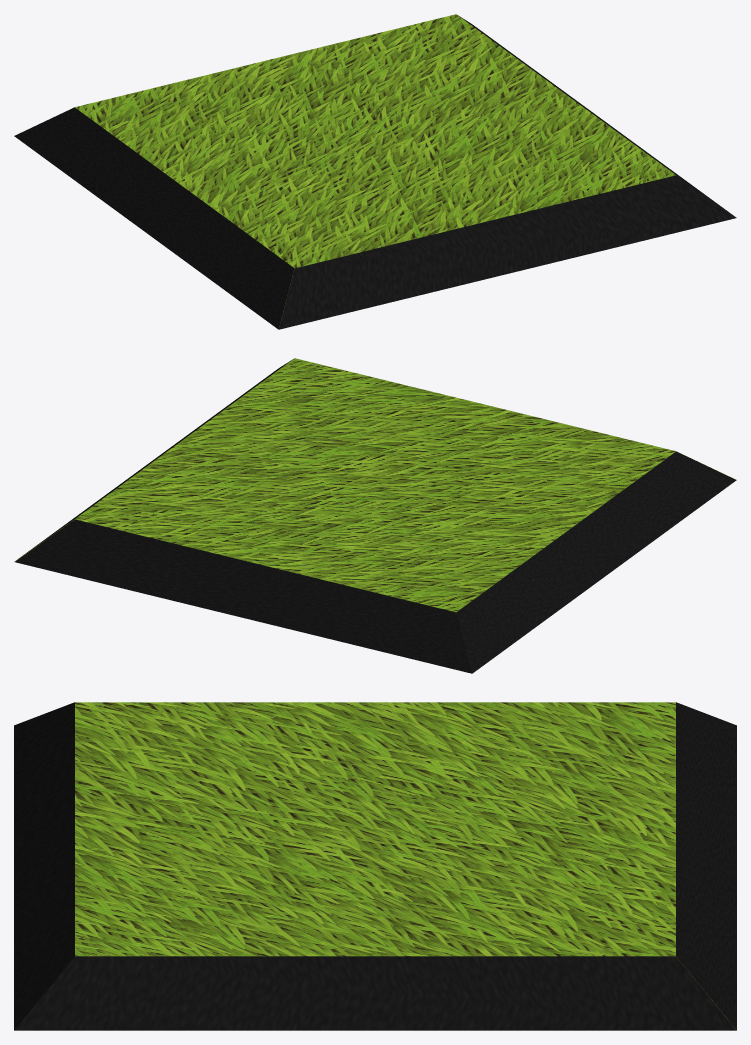
Rendered from MiniatureBase30x30.glb.
The picture shows the model from 3 angles, top to bottom: view 1: azimuth 30°, elevation 25°; view 2: azimuth 150°, elevation 25°; view 3: azimuth 270°, elevation 25°; orthographic projection. The views are drawn at different scales.
Visible parts, largest first — view 1: Cube; view 2: Cube; view 3: Cube.
Boxes of the visible parts, x1=… form: Cube: x1=14, y1=14, x2=736, y2=329; Cube: x1=14, y1=358, x2=736, y2=673; Cube: x1=14, y1=702, x2=736, y2=1030.
Size of the model in its own units: 0.3 by 0.0224 by 0.3002.
Materials: 1 (1 with a texture image).
